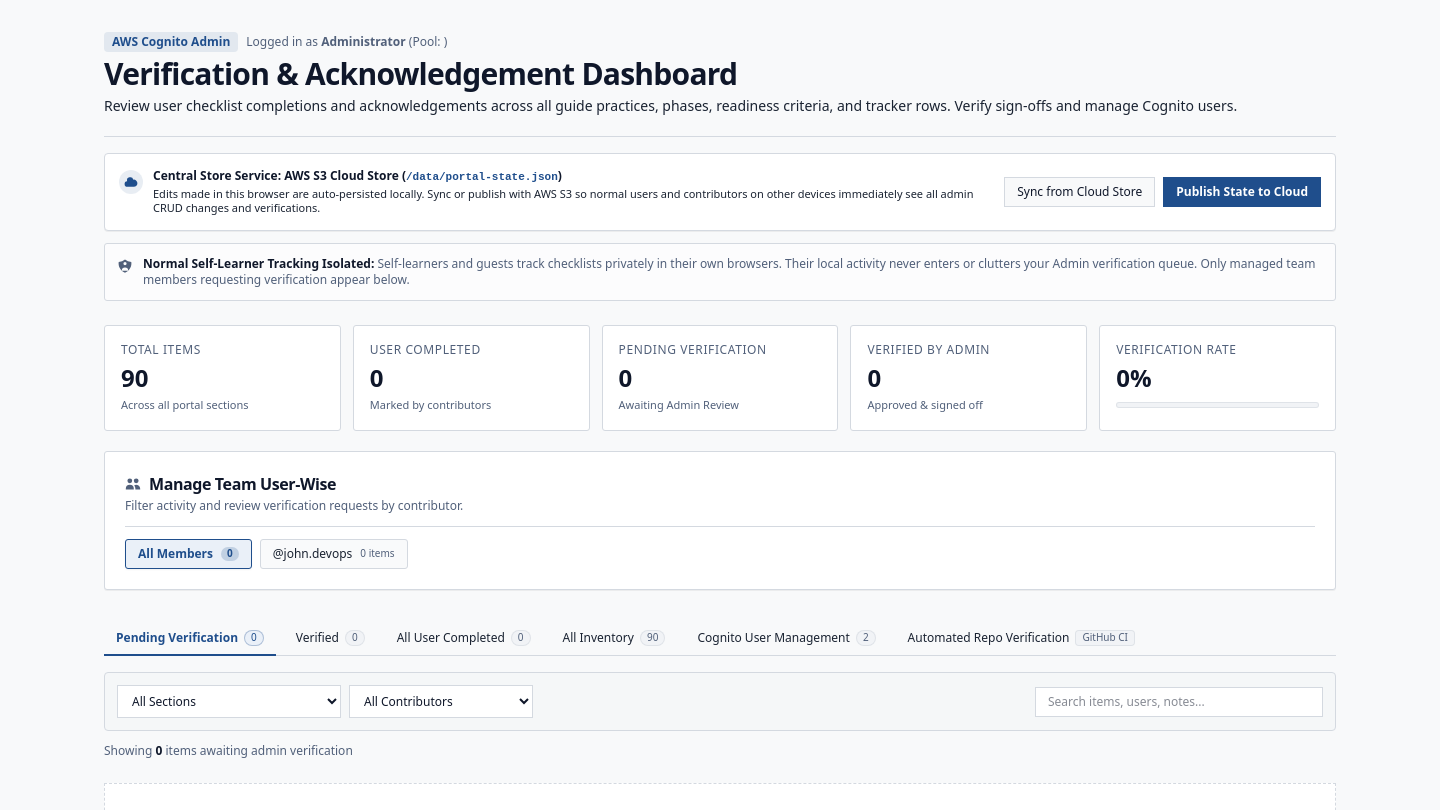
it: Admin Verification & Acknowledgement Dashboard › shows all inventory items when selecting the all inventory tab
Click the button "All Inventory 90": (614,639) [550,622,677,656]
(page scrolled)
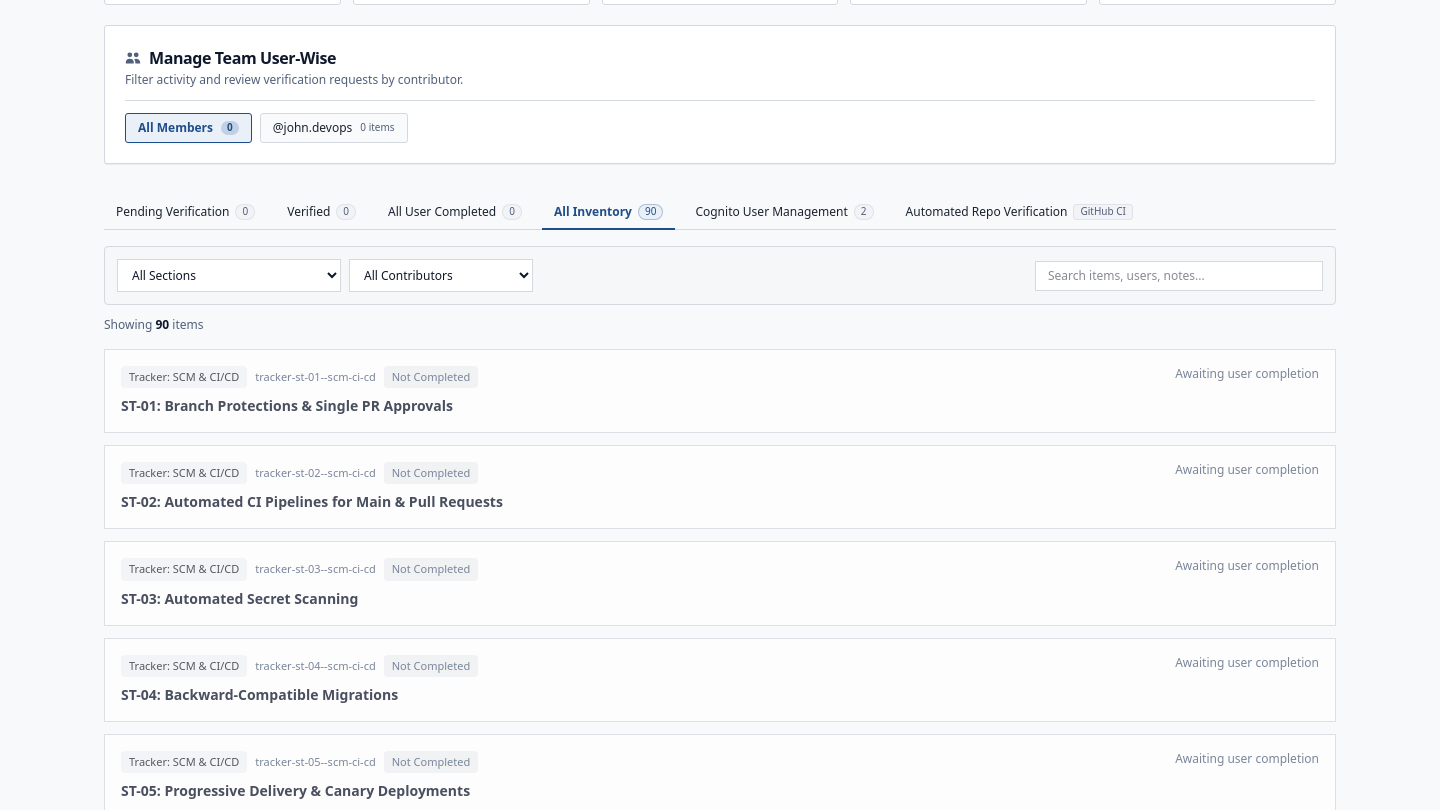
Result: the link "ST-01: Branch Protections & Single PR Approvals" is shown at [121,396,453,415]
